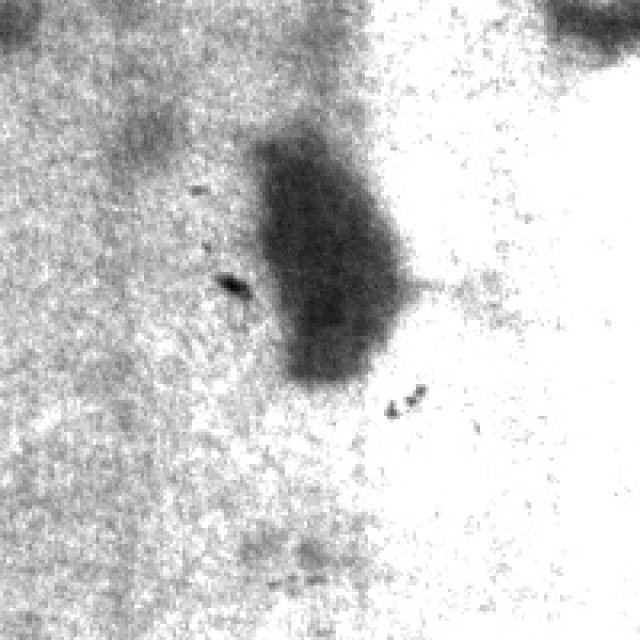patches: (253, 134, 419, 388), (538, 0, 640, 73)
